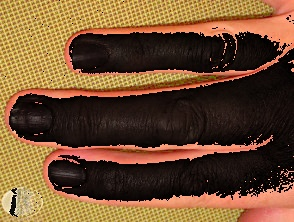Nail_psoriasis: (4, 94, 61, 142)
